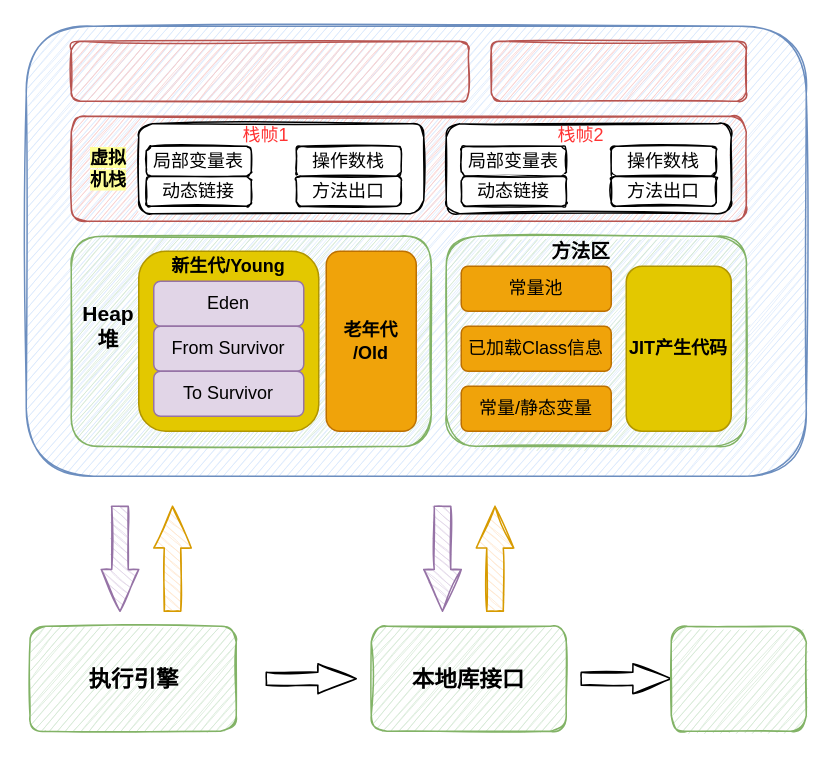
Image size: 833x758. Some labels were removed from this diagram. The centre of each missing label's shape, as x and y in pixels:
"本地方法库" goes at point (738, 678).
"本地方法栈" goes at point (618, 70).
"程序计数器" goes at point (269, 70).
